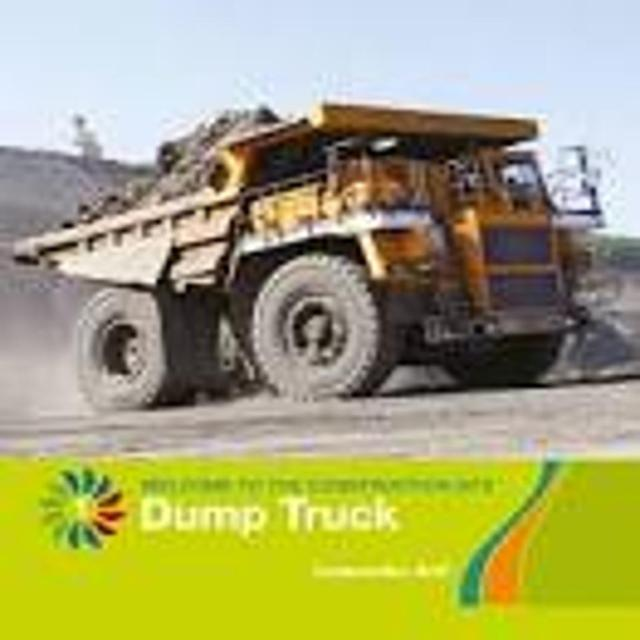dump_truck: (11, 94, 608, 423)
